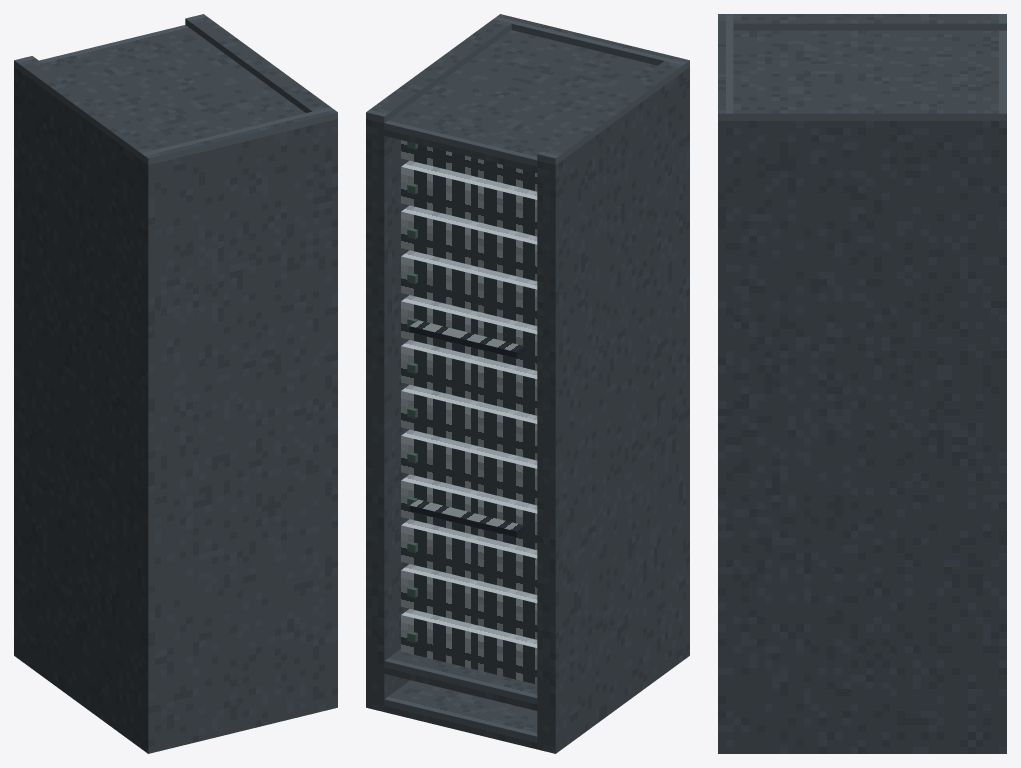
Rendered from f_server.glb.
3 renders of one model, left to right at view 1: azimuth 30°, elevation 25°; view 2: azimuth 150°, elevation 25°; view 3: azimuth 270°, elevation 25°, orthographic. The views are drawn at different scales.
Parts seen in each view (by area): view 1: block_back, block_side--0.28, block_shelf-2, block_side-0.28; view 2: block_side--0.28, block_side-0.28, block_shelf-2, block_back, block_rack-unit-0.8700000000000001, block_rack-unit-0.31000000000000005, block_rack-unit-0.45000000000000007, block_rack-unit-1.2900000000000005, block_rack-unit-1.4300000000000006, block_rack-unit-0.17, block_rack-unit-0.7300000000000001, block_rack-unit-1.0100000000000002 (+7 smaller); view 3: block_side-0.28, block_shelf-2, block_back, block_side--0.28.
Part boxes in pixels (bbox=[...]): block_back: bbox=[141, 107, 337, 753]; block_side--0.28: bbox=[14, 56, 159, 748]; block_shelf-2: bbox=[39, 25, 305, 148]; block_side-0.28: bbox=[185, 14, 330, 112]; block_side--0.28: bbox=[537, 61, 682, 753]; block_side-0.28: bbox=[366, 19, 511, 711]; block_shelf-2: bbox=[384, 30, 657, 172]; block_back: bbox=[493, 14, 689, 660]; block_rack-unit-0.8700000000000001: bbox=[401, 384, 537, 460]; block_rack-unit-0.31000000000000005: bbox=[401, 564, 537, 639]; block_rack-unit-0.45000000000000007: bbox=[401, 519, 537, 594]; block_rack-unit-1.2900000000000005: bbox=[401, 250, 537, 325]; block_rack-unit-1.4300000000000006: bbox=[401, 205, 537, 280]; block_rack-unit-0.17: bbox=[401, 609, 537, 684]; block_rack-unit-0.7300000000000001: bbox=[401, 429, 537, 505]; block_rack-unit-1.0100000000000002: bbox=[401, 340, 537, 415]; block_side-0.28: bbox=[733, 104, 1006, 753]; block_shelf-2: bbox=[733, 30, 1006, 103]; block_back: bbox=[718, 14, 733, 753]; block_side--0.28: bbox=[733, 14, 1006, 30].
Size of the model in its own units: 0.62 by 1.86 by 0.76.
Materials: 1 (1 with a texture image).
